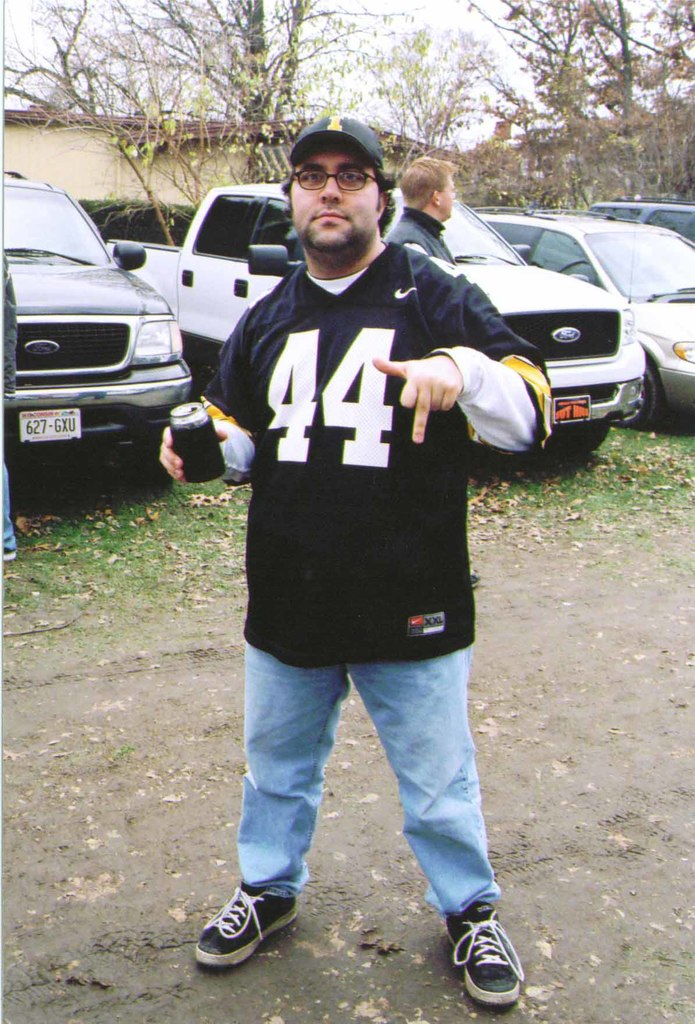Car: (0, 175, 203, 487), (480, 200, 694, 430), (585, 200, 694, 247)
